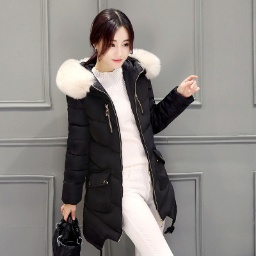face: (86, 8, 134, 68)
